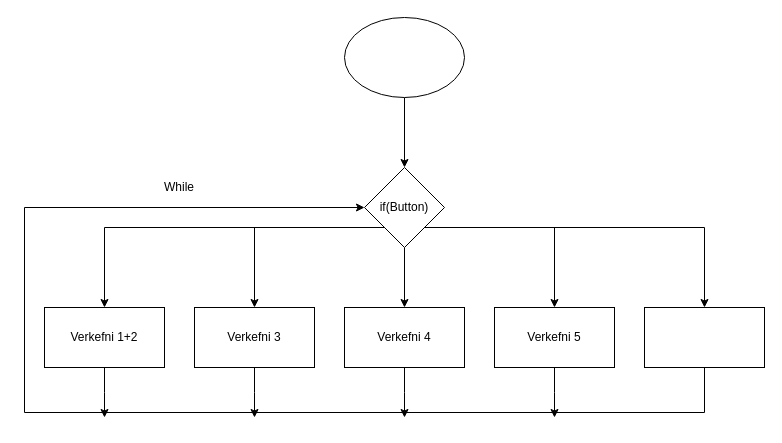
The diagram is 782 pixels wide and 443 high, and some of its shapes have lost their labels. Here are the shapes that lost their labels. From the top down, the centre of each, then its label:
At point (404, 57): "Start".
At point (704, 337): "Verkefni 6".
